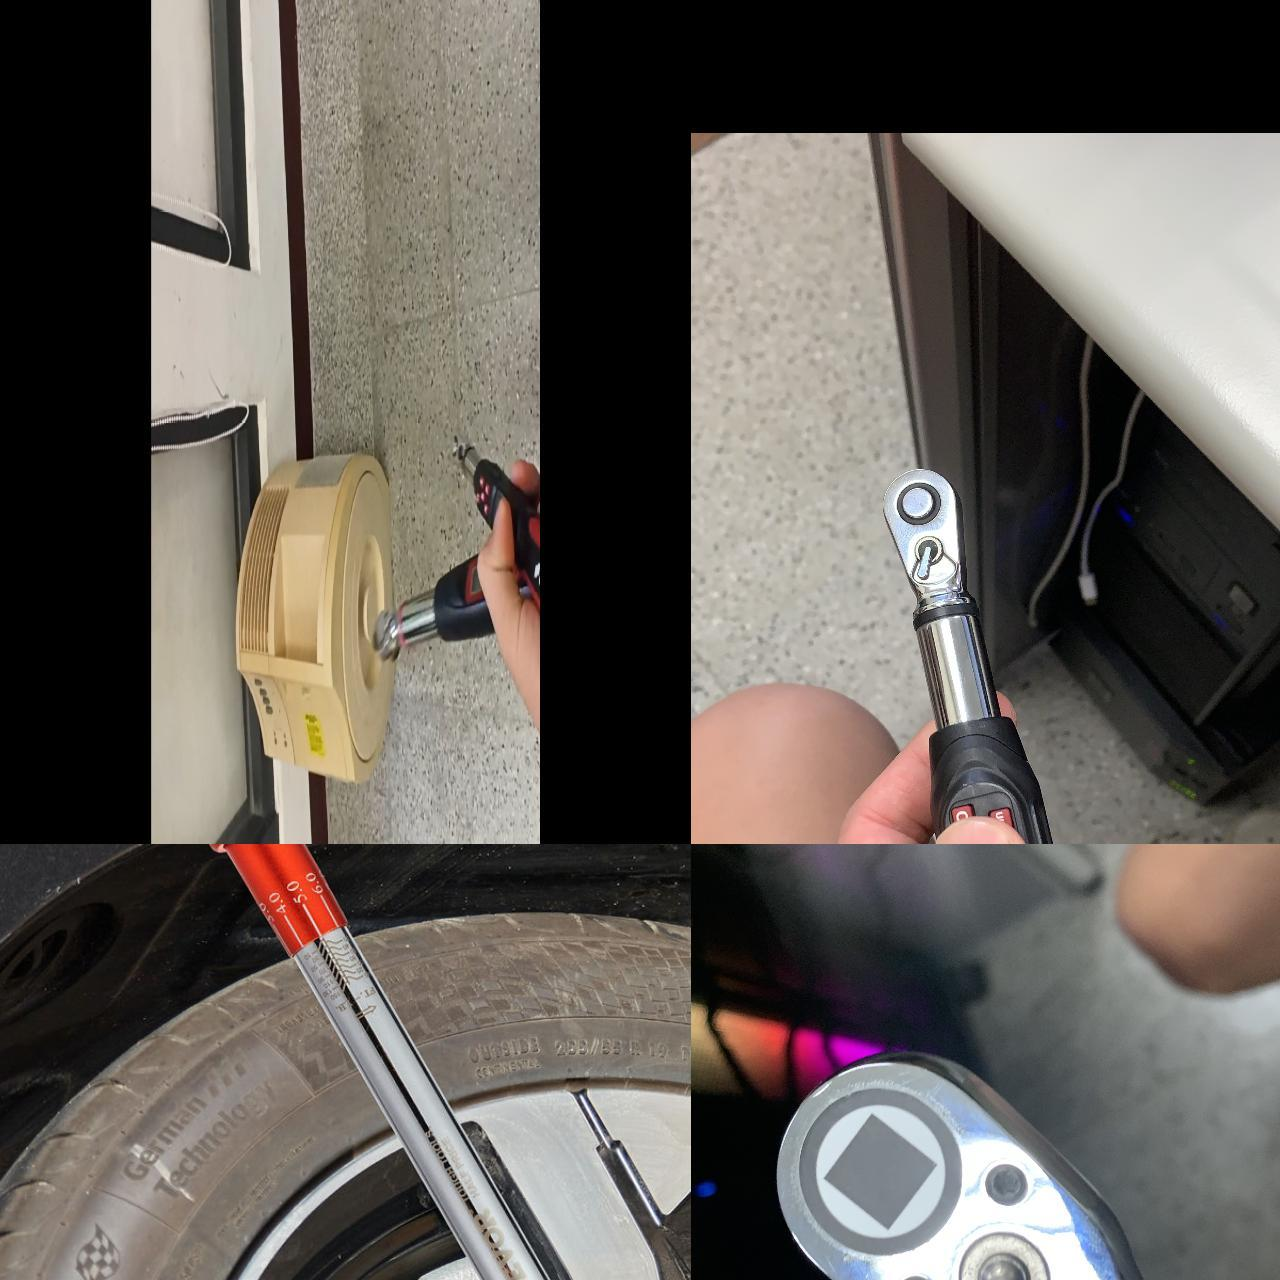Tool: (772, 1039, 1280, 1280), (879, 465, 969, 614)
